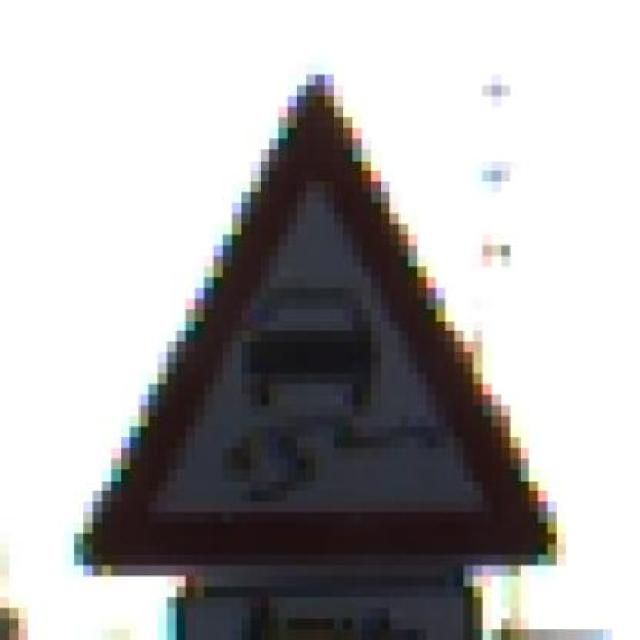Slippery Road Ahead: (55, 75, 557, 576)
